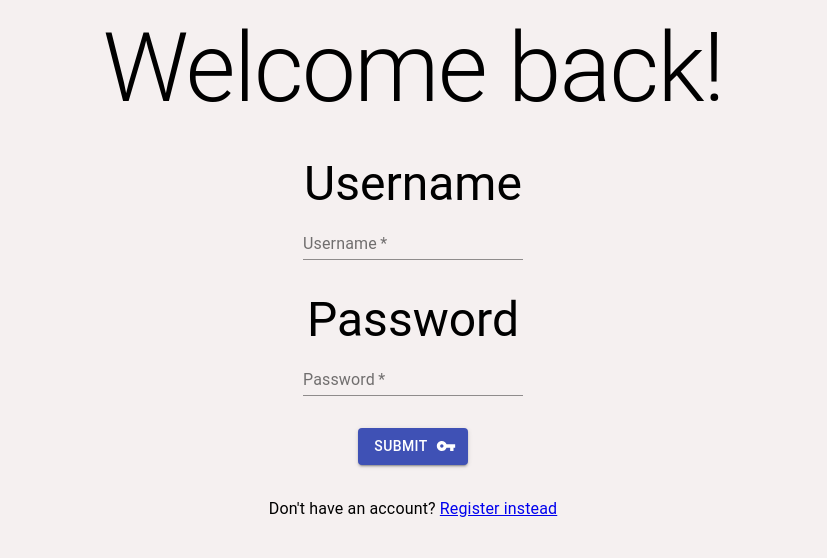
it: SignIn view component › tells us that our input is invalid
The width and height of the screenshot is (827, 558).
// Go to register page
Click the link "Register instead": coordinates (498, 508) [440,499,557,518]
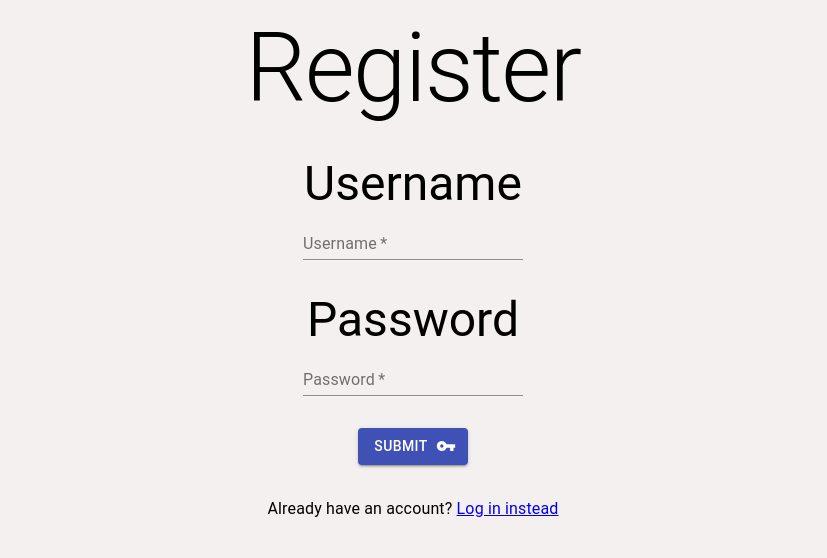
// Invalid because both password and username must be at least 8 chars long
In the field labelled "Username *": coordinates (413, 244) [303,228,523,260], type "123"
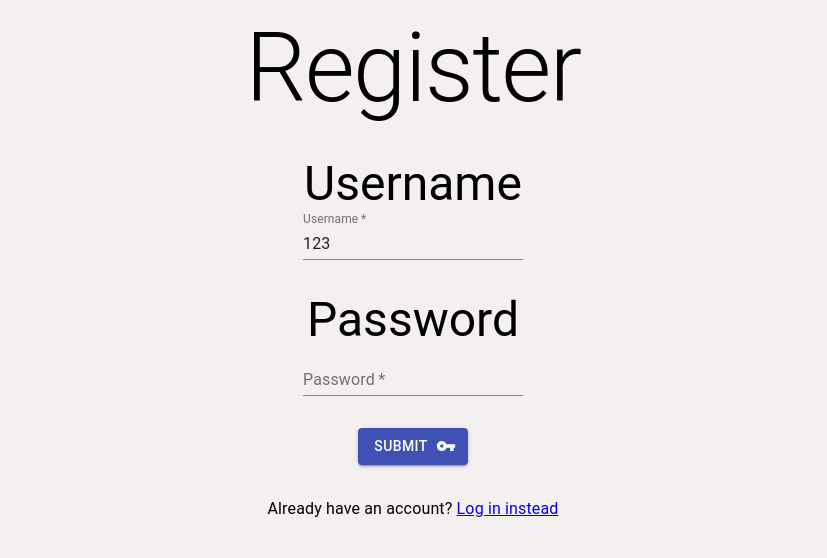
In the password field labelled "Password *": coordinates (413, 380) [303,364,523,396], type "123"
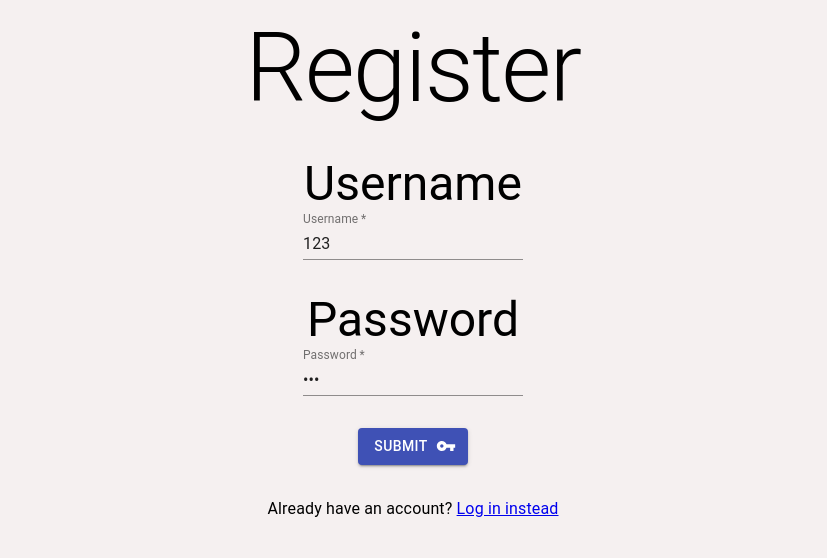
Click the button with test id "sub-btn": coordinates (413, 446) [358,428,468,465]
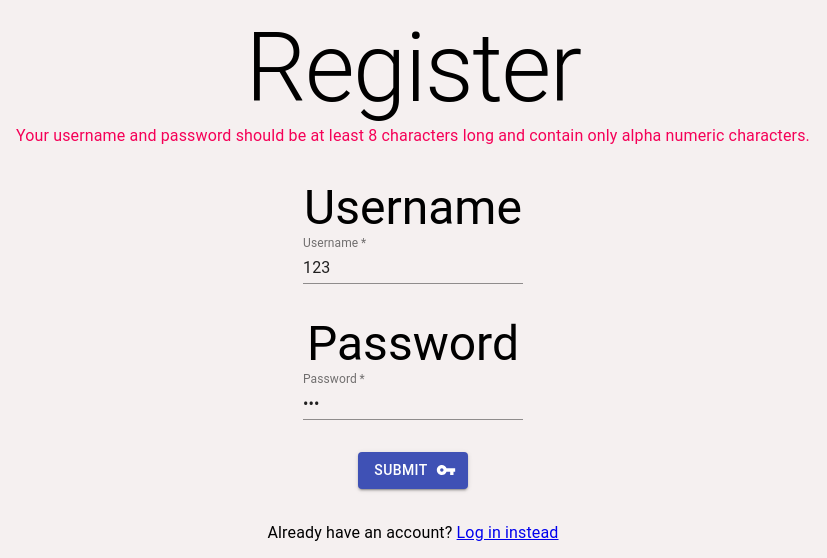
Result: the text "at least" is shown at [16,126,810,145]
